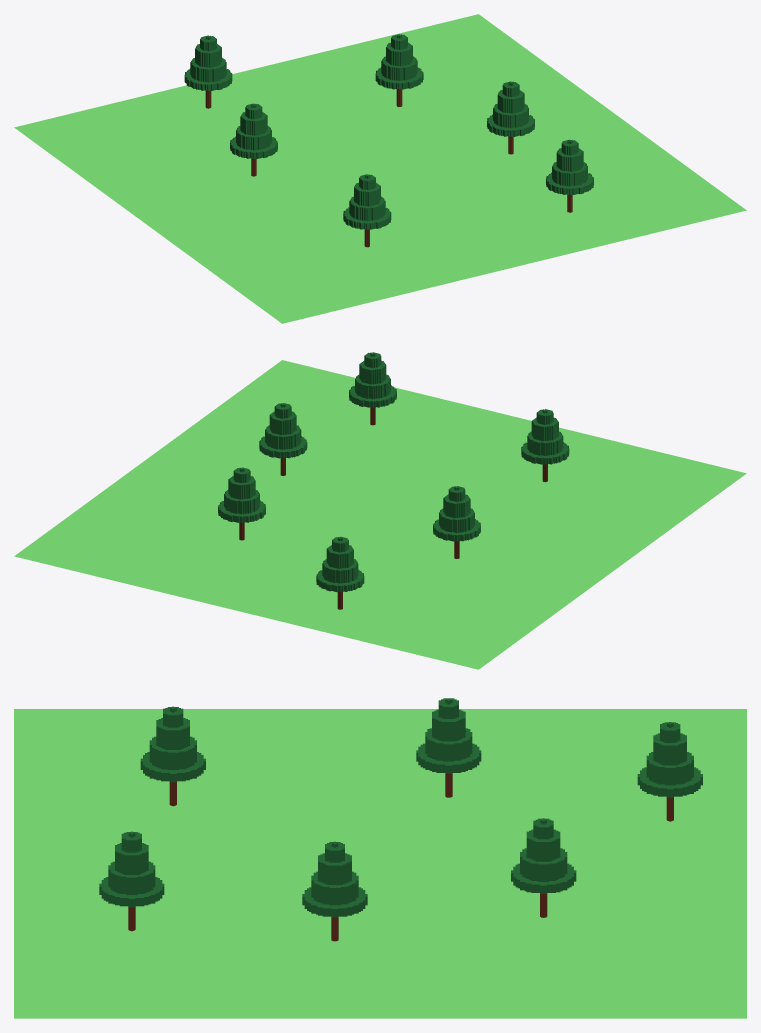
File: ForestMap.fbx
The picture shows the model from 3 angles, top to bottom: view 1: azimuth 30°, elevation 25°; view 2: azimuth 150°, elevation 25°; view 3: azimuth 270°, elevation 25°; orthographic projection. The views are drawn at different scales.
Visible parts, largest first — view 1: Plane, Cylinder.002, Cylinder.006, Cylinder.010, Cylinder.008, Cylinder.004, Cylinder.001; view 2: Plane, Cylinder.006, Cylinder.010, Cylinder.001, Cylinder.004, Cylinder.008, Cylinder.002; view 3: Plane, Cylinder.002, Cylinder.004, Cylinder.008, Cylinder.006, Cylinder.010, Cylinder.001.
Part boxes in pixels (<box>): Plane: <box>14,14,746,323</box>; Cylinder.002: <box>375,34,423,89</box>; Cylinder.006: <box>343,174,391,229</box>; Cylinder.010: <box>487,81,534,136</box>; Cylinder.008: <box>230,103,277,158</box>; Cylinder.004: <box>546,139,593,194</box>; Cylinder.001: <box>184,35,232,90</box>; Plane: <box>14,360,746,669</box>; Cylinder.006: <box>521,409,569,464</box>; Cylinder.010: <box>259,403,307,458</box>; Cylinder.001: <box>316,536,364,592</box>; Cylinder.004: <box>349,352,396,407</box>; Cylinder.008: <box>433,486,480,541</box>; Cylinder.002: <box>218,467,265,522</box>; Plane: <box>14,709,746,1018</box>; Cylinder.002: <box>511,818,576,893</box>; Cylinder.004: <box>99,831,164,907</box>; Cylinder.008: <box>416,698,481,773</box>; Cylinder.006: <box>140,706,205,782</box>; Cylinder.010: <box>302,841,367,917</box>; Cylinder.001: <box>637,722,702,797</box>.
Size of the model in its own units: 3803 by 574 by 3803.
